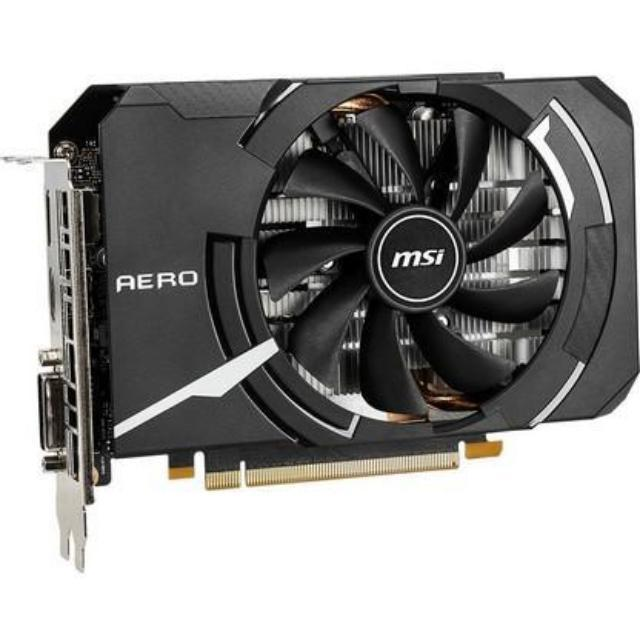GPU: (38, 66, 640, 492)
